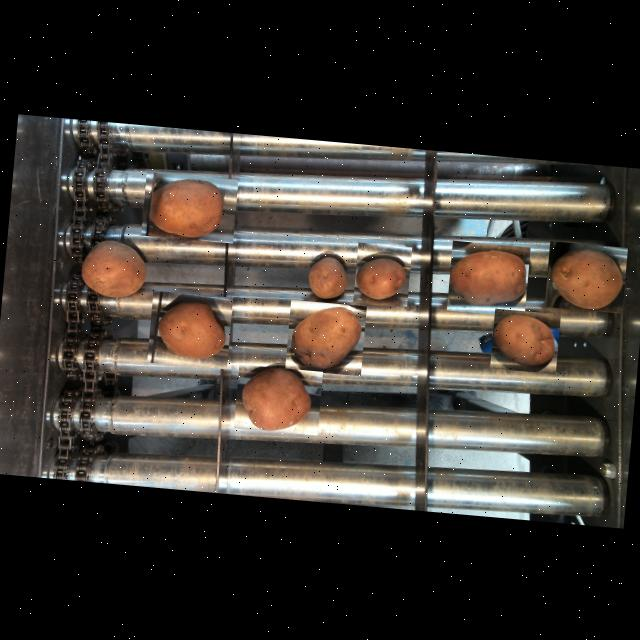Potato: (140, 170, 237, 242), (146, 289, 232, 368), (446, 239, 530, 316), (70, 228, 152, 306), (232, 363, 322, 434), (284, 298, 366, 374), (543, 239, 627, 313), (488, 307, 560, 373), (352, 241, 411, 305), (301, 248, 353, 305)
